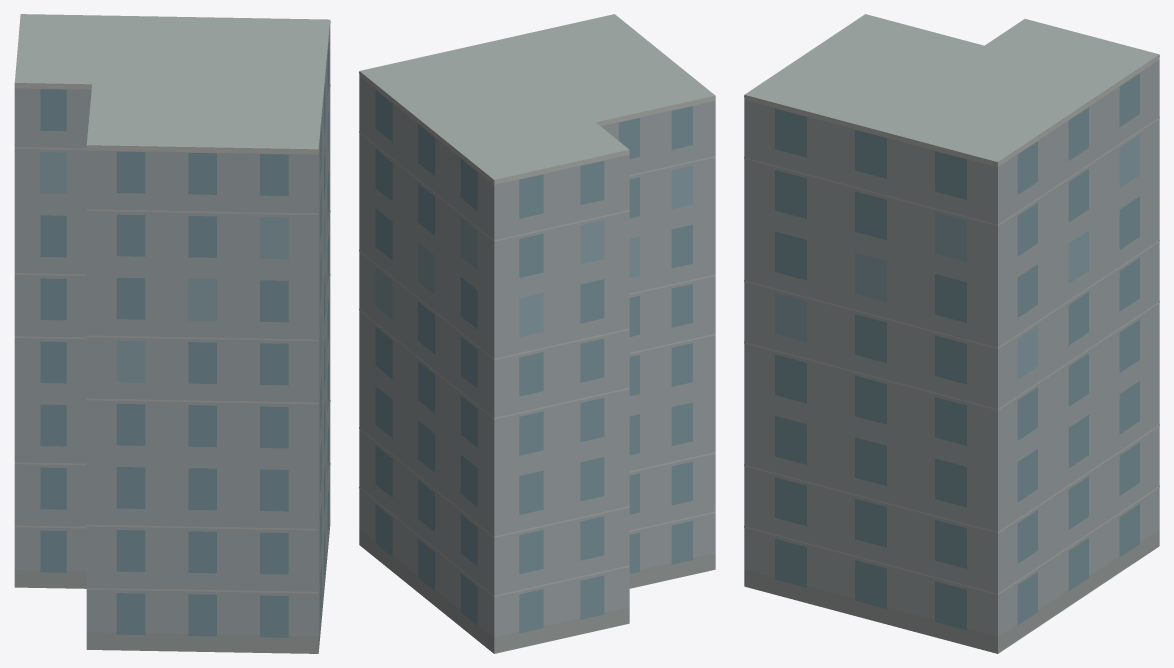
The model's file is survey-upis-32743263.glb.
The picture shows the model from 3 angles, left to right: view 1: azimuth 30°, elevation 25°; view 2: azimuth 150°, elevation 25°; view 3: azimuth 270°, elevation 25°; orthographic projection. The views are drawn at different scales.
Parts seen in each view (by area): view 1: survey-upis-32743263.tmp; view 2: survey-upis-32743263.tmp; view 3: survey-upis-32743263.tmp.
Boxes of the visible parts, x1,y1,x2,y2 form: survey-upis-32743263.tmp: (14,14,330,653); survey-upis-32743263.tmp: (359,14,715,653); survey-upis-32743263.tmp: (744,14,1159,653).
Bounding box in the file's own units: 15.01 × 23.2 × 17.78.
